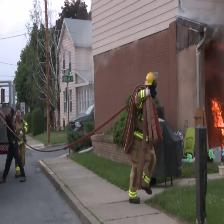fire: (201, 24, 224, 186)
smoke: (122, 0, 224, 69)
